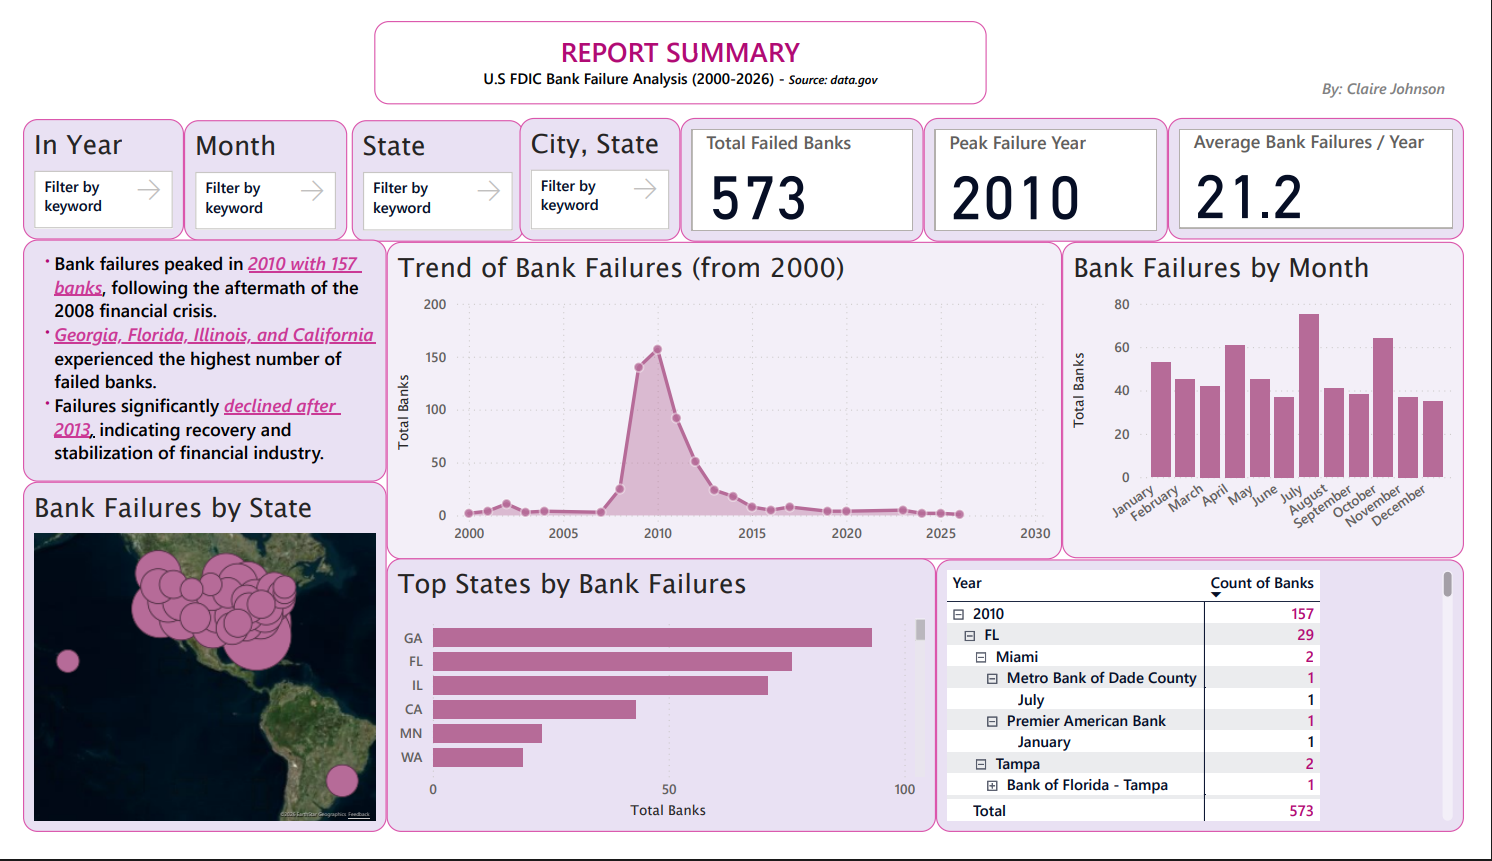

The dashboard page shown, as its layout file describes it:
{"tool":"powerbi","page":{"name":"Report Summary","canvas":[1280,720],"ordinal":0},"visuals":[{"type":"columnChart","title":"Bank Failures by Month","fields":{"Category":["Date.Month"],"Y":["CountNonNull(Failed Banks.Bank Name )"]},"box":[923,196,357,281],"z":0},{"type":"pivotTable","fields":{"Rows":["Date.Year","Failed Banks.Geography Drilldown.State ","Failed Banks.Geography Drilldown.City ","Failed Banks.Geography Drilldown.Bank Name ","Date.Month"],"Values":["CountNonNull(Failed Banks.Bank Name )"]},"box":[811,478,469,242],"z":1000},{"type":"textSlicer","fields":{"Values":["Date.Month"]},"box":[143.2,88,144.9,107],"z":2000},{"type":"areaChart","title":"Trend of Bank Failures (from 2000)","fields":{"Category":["Date.Year"],"Y":["CountNonNull(Failed Banks.Banks)"]},"box":[323,196,600,282],"z":4000},{"type":"textSlicer","fields":{"Values":["Failed Banks.State "]},"box":[292,88,153,108],"z":5000},{"type":"textSlicer","fields":{"Values":["Failed Banks.City, State"]},"box":[440.8,86.3,143.2,108.7],"z":6000},{"type":"textSlicer","fields":{"Values":["Date.year_text"]},"box":[0,87.1,143.2,107],"z":7000},{"type":"textbox","box":[312,0,544,74],"z":9000},{"type":"cardVisual","fields":{"Data":["Date.Total Failed Banks"]},"box":[584,86,216,110],"z":10000},{"type":"clusteredBarChart","title":"Top States by Bank Failures","fields":{"Category":["Failed Banks.State "],"Y":["CountNonNull(Failed Banks.Banks)"]},"box":[323,477,488,243],"z":11000},{"type":"cardVisual","fields":{"Data":["YearSummary.Worst Year"]},"box":[800,86,217,110],"z":12000},{"type":"textbox","box":[1149,46,129,28],"z":13000},{"type":"azureMap","title":"Bank Failures by State ","fields":{"Size":["CountNonNull(Failed Banks.Banks)"],"Category":["Failed Banks.State "]},"box":[0,409,323,311],"z":14000},{"type":"cardVisual","fields":{"Data":["YearSummary.Average Bank Failures per Year"]},"box":[1017,86,263,108],"z":15000},{"type":"textbox","box":[0,194,323,215],"z":16000}]}

Visuals, with their boxes in screenshot pixels (x1, y1, x2, y2), scaled from the page's 1280x720 canvas onto the 1492x861 screenshot:
"Bank Failures by Month" columnChart: BBox(1076, 234, 1491, 570)
pivotTable - Date.Year x Failed Banks.Geography Drilldown.State : BBox(945, 572, 1491, 860)
textSlicer - Date.Month: BBox(167, 105, 336, 233)
"Trend of Bank Failures (from 2000)" areaChart: BBox(376, 234, 1076, 572)
textSlicer - Failed Banks.State : BBox(340, 105, 519, 234)
textSlicer - Failed Banks.City, State: BBox(514, 103, 681, 233)
textSlicer - Date.year_text: BBox(0, 104, 167, 232)
textbox: BBox(364, 0, 998, 88)
cardVisual - Date.Total Failed Banks: BBox(681, 103, 932, 234)
"Top States by Bank Failures" clusteredBarChart: BBox(376, 570, 945, 860)
cardVisual - YearSummary.Worst Year: BBox(932, 103, 1185, 234)
textbox: BBox(1339, 55, 1490, 88)
"Bank Failures by State " azureMap: BBox(0, 489, 376, 860)
cardVisual - YearSummary.Average Bank Failures per Year: BBox(1185, 103, 1491, 232)
textbox: BBox(0, 232, 376, 489)
